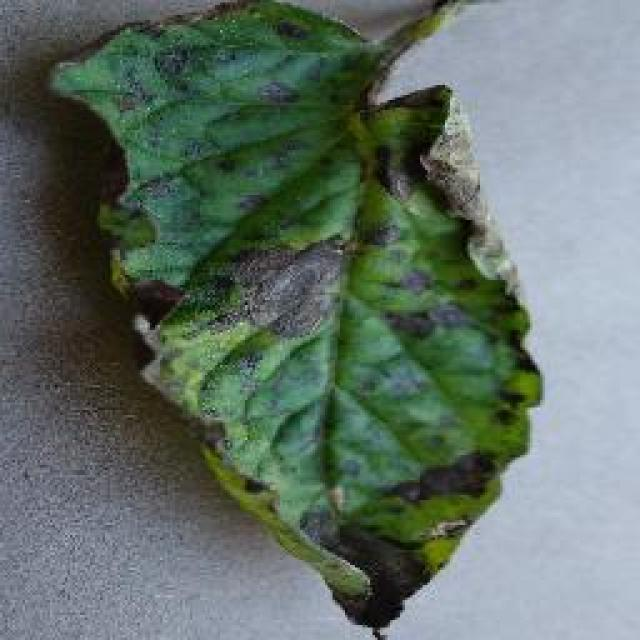leaf blight: (52, 0, 540, 634)
